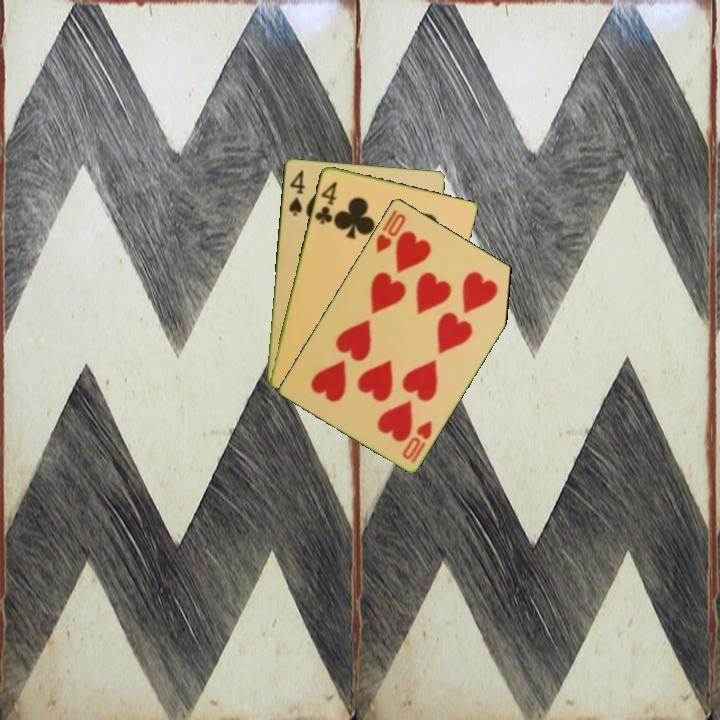10h: (372, 206, 409, 255), (398, 417, 435, 465)
4c: (311, 178, 340, 227)
4s: (285, 166, 308, 219)
